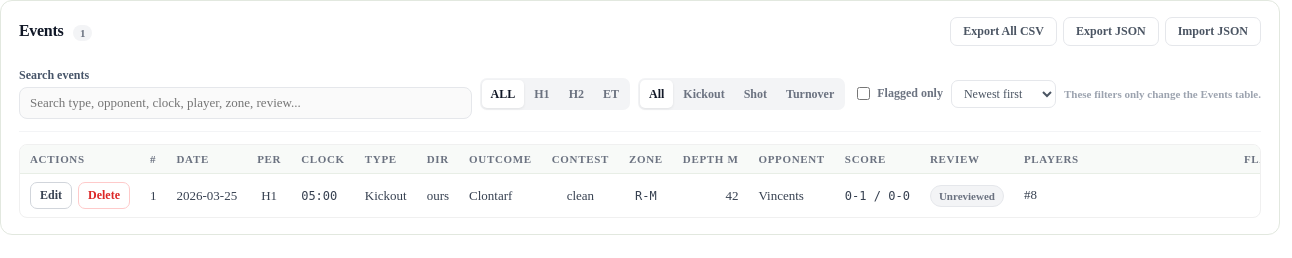
it: EventsTable › shows the filtered empty state and lets the user clear local filters
The image size is (1292, 258).
Type "Na Fianna" into the search field labelled "Search events". click: (245, 103)
box: [19,87,472,119]
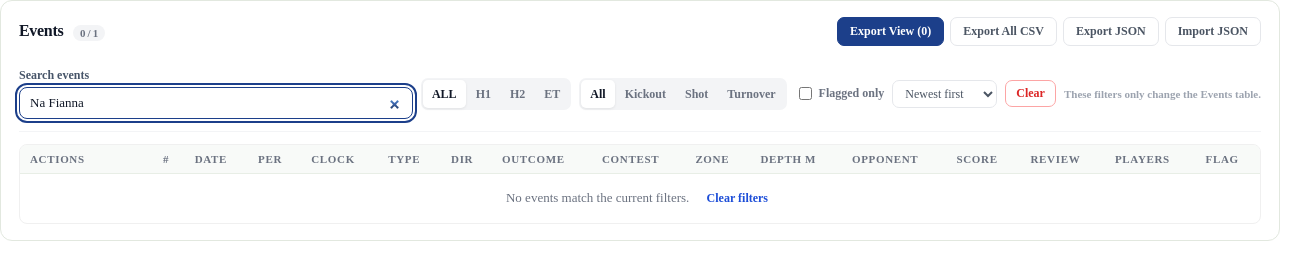
Expected: the text "No events match the current filters. Clear filters" is shown, [20,174,1260,223]
Click the button "Clear filters". click: click(737, 198)
box: [701,190,774,207]
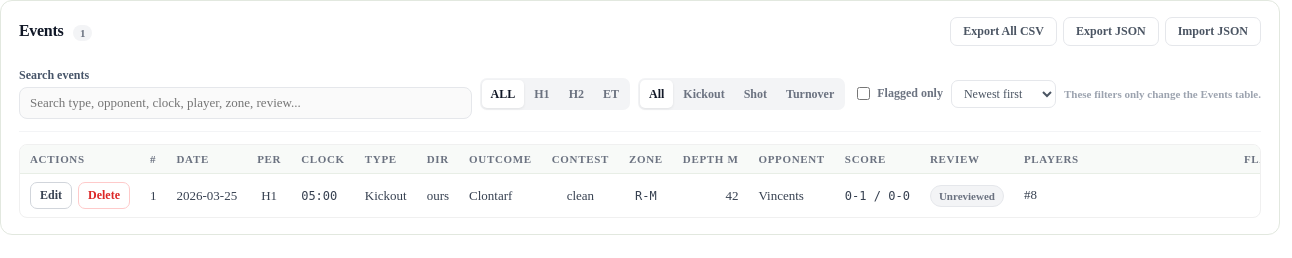
Expected: the text "No events match the current filters" is gone
Expected: the text "Vincents" is shown, [748,174,835,217]
